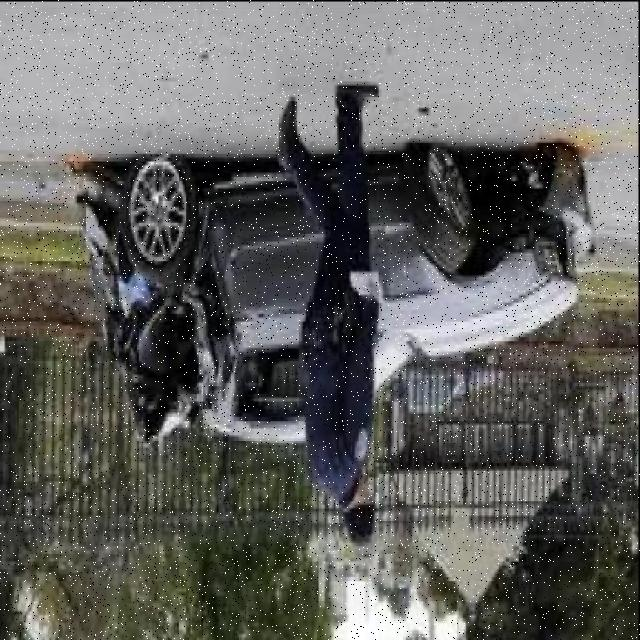damage: (80, 176, 237, 442), (402, 147, 597, 314)
